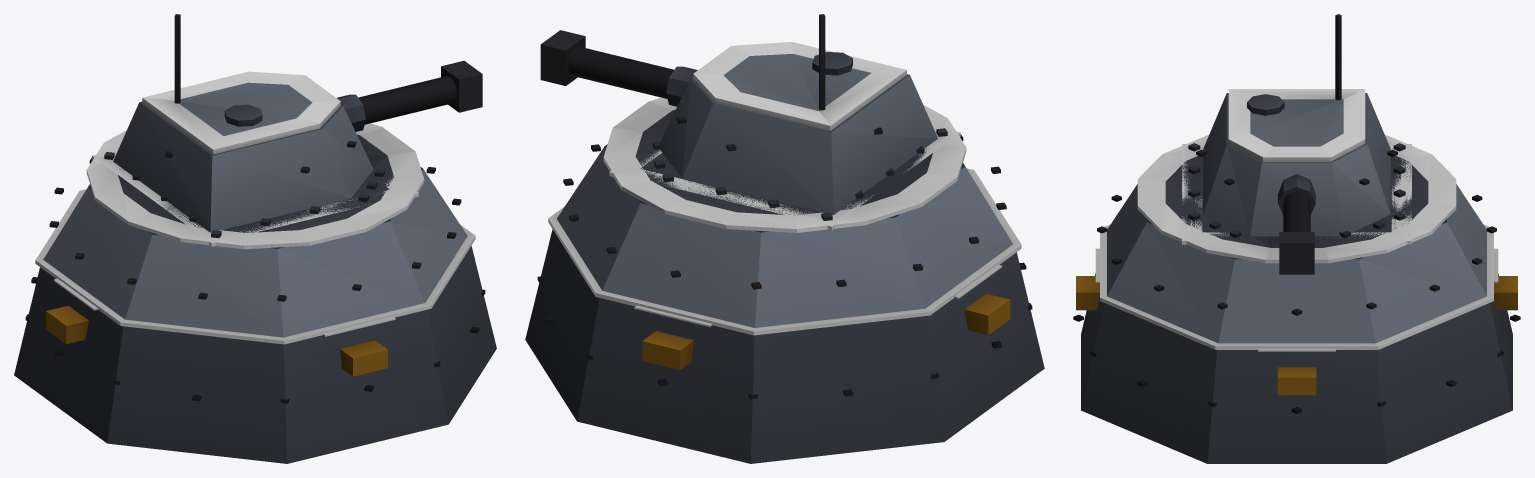
The model's file is network_automated_gun.glb.
The picture shows the model from 3 angles, left to right: view 1: azimuth 30°, elevation 25°; view 2: azimuth 150°, elevation 25°; view 3: azimuth 270°, elevation 25°; orthographic projection. The views are drawn at different scales.
Visible parts, largest first — view 1: body (×2), turret, barrel; view 2: body (×2), turret, barrel; view 3: body (×2), turret, barrel.
Boxes of the visible parts, x1,y1,x2,y2 form: body (×2): (14,123,496,463); turret: (113,14,373,232); barrel: (337,60,482,131); body (×2): (525,97,1044,463); turret: (660,14,937,215); barrel: (540,30,697,106); body (×2): (1073,135,1520,463); turret: (1196,14,1397,236); barrel: (1278,174,1315,274).
Size of the model in its own units: 3.58 by 2.81 by 3.44.
